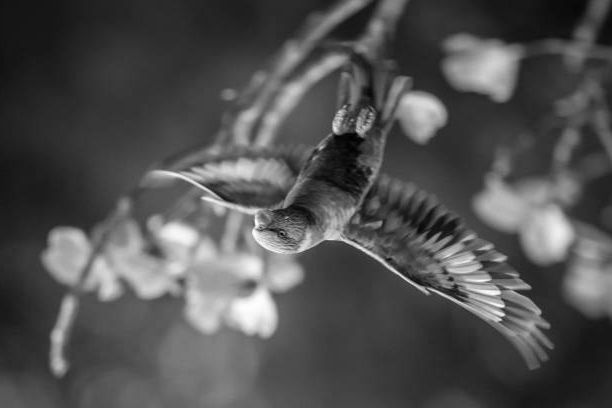Bird: (138, 36, 554, 373)
